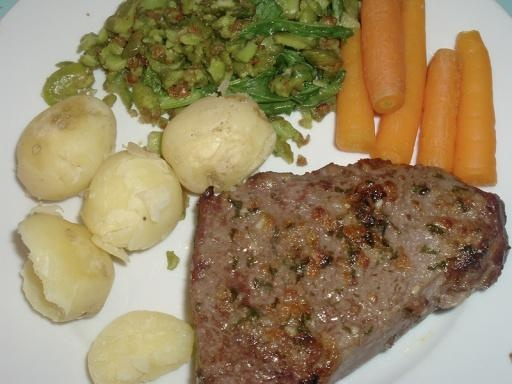background: (11, 0, 408, 230)
